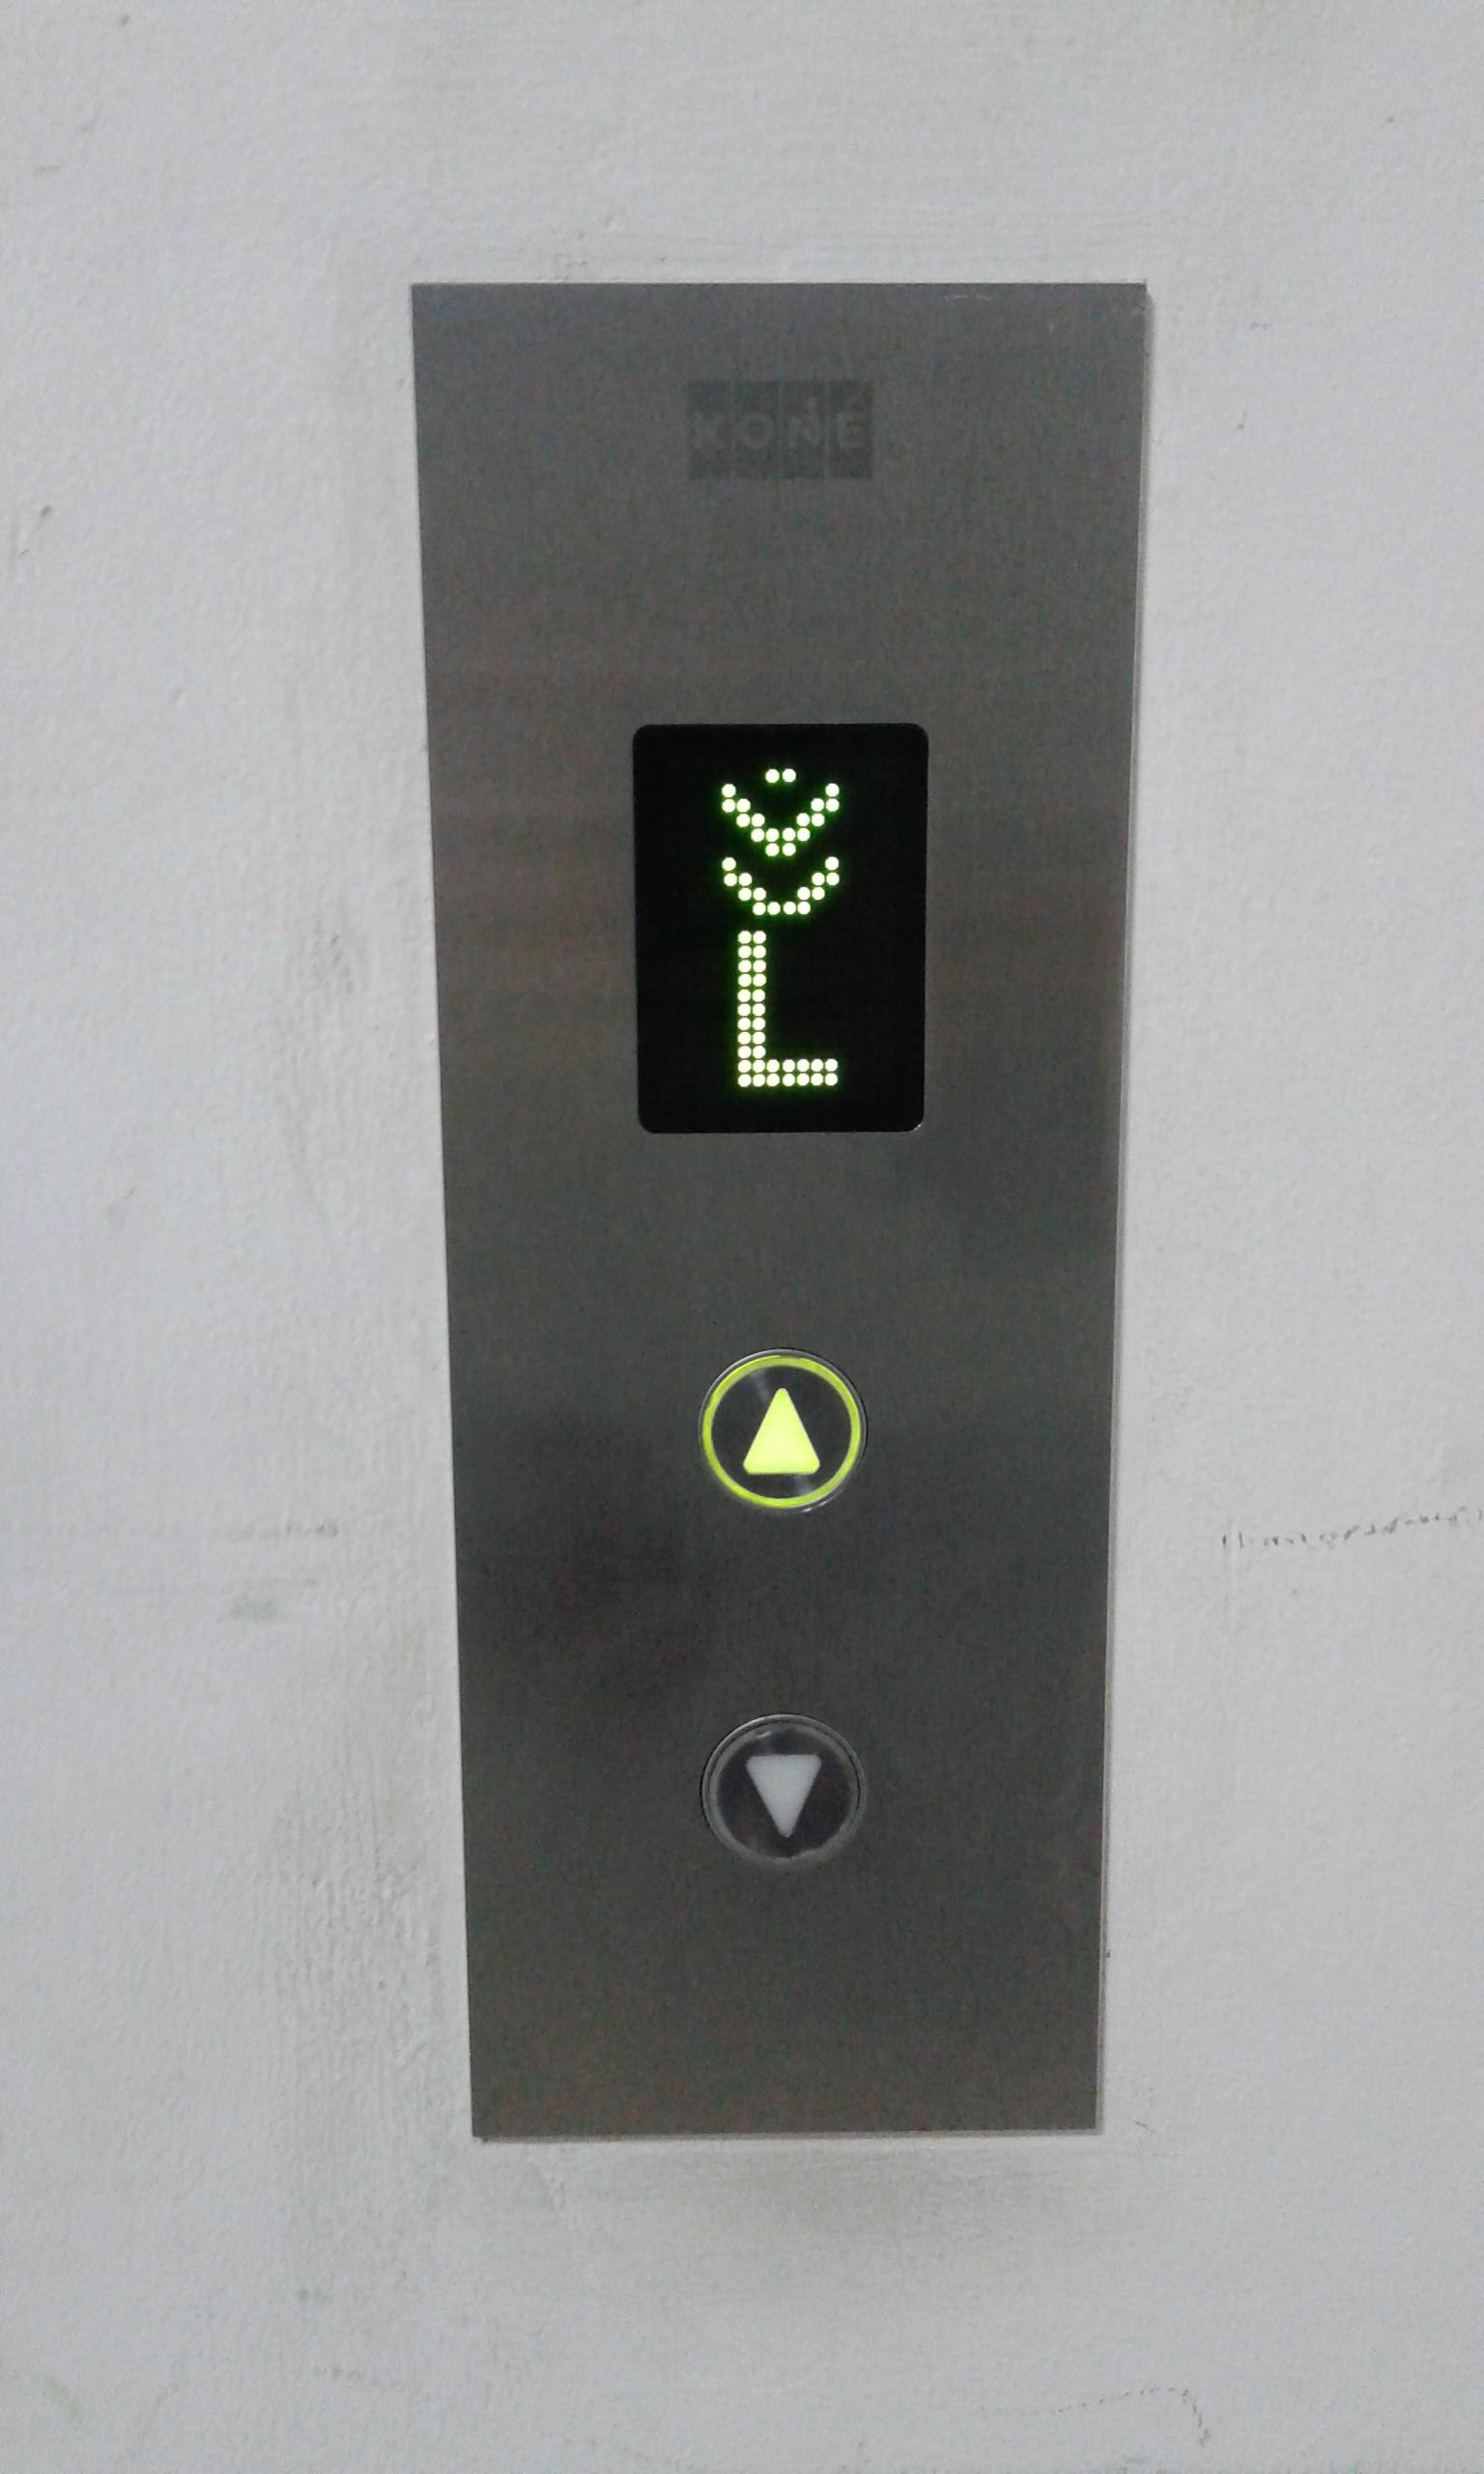down: (701, 1707, 867, 1884)
led: (615, 700, 950, 1154)
up: (694, 1345, 867, 1522)
